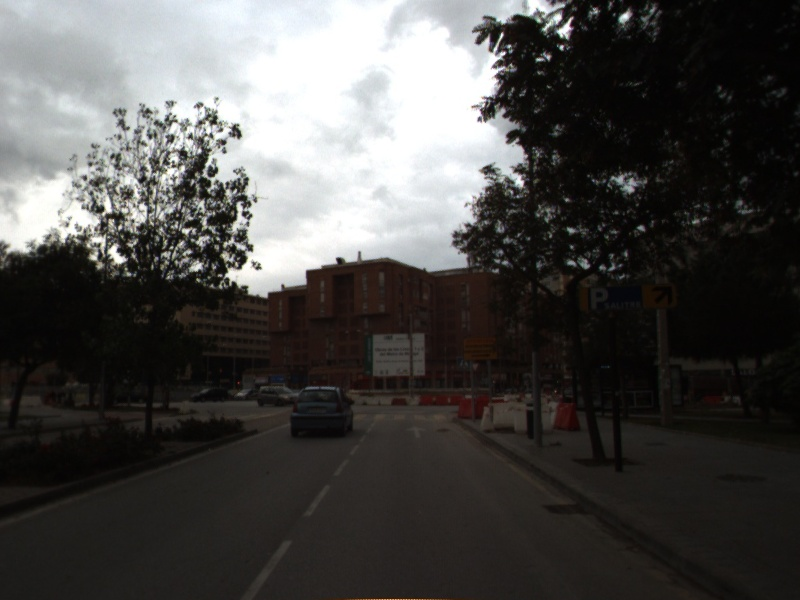STRAIGHT: (403, 423, 429, 440)
